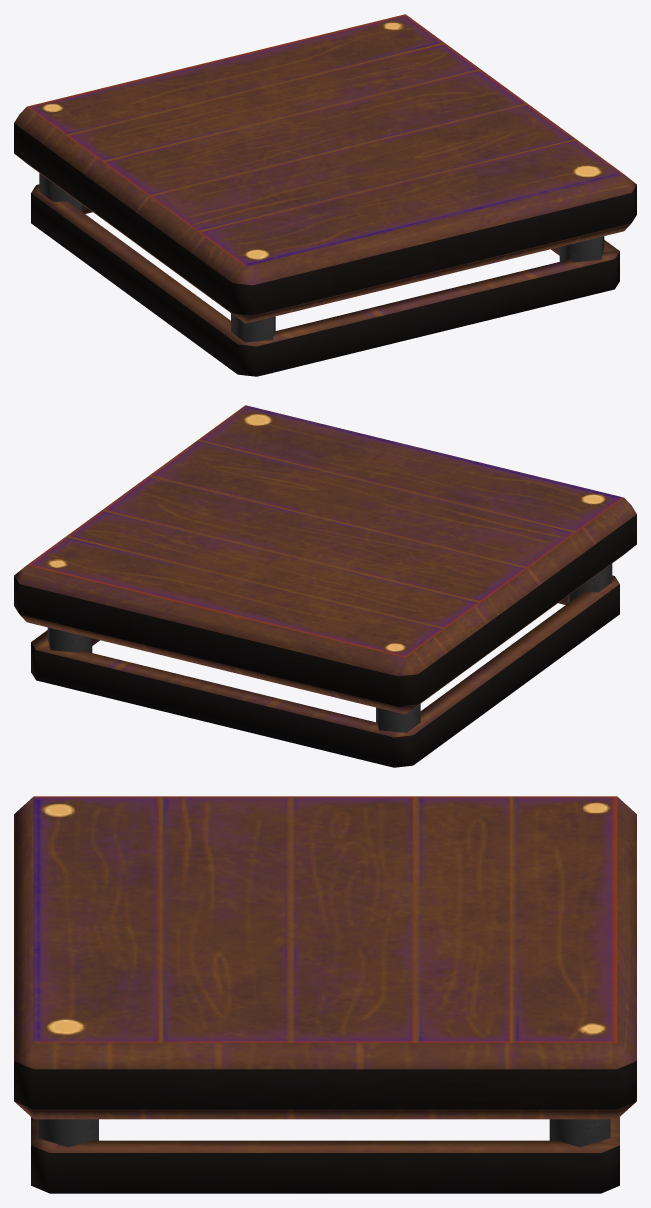
Rendered from Platform_Art.glb.
3 renders of one model, top to bottom at view 1: azimuth 30°, elevation 25°; view 2: azimuth 150°, elevation 25°; view 3: azimuth 270°, elevation 25°, orthographic. The views are drawn at different scales.
Visible parts, largest first — view 1: Platform_Art; view 2: Platform_Art; view 3: Platform_Art.
Boxes of the visible parts, x1=… form: Platform_Art: x1=14, y1=14, x2=636, y2=376; Platform_Art: x1=14, y1=405, x2=636, y2=767; Platform_Art: x1=14, y1=796, x2=636, y2=1193.
Bounding box in the file's own units: 1.65 × 0.4484 × 1.65.
Materials: 1 (1 with a texture image).
